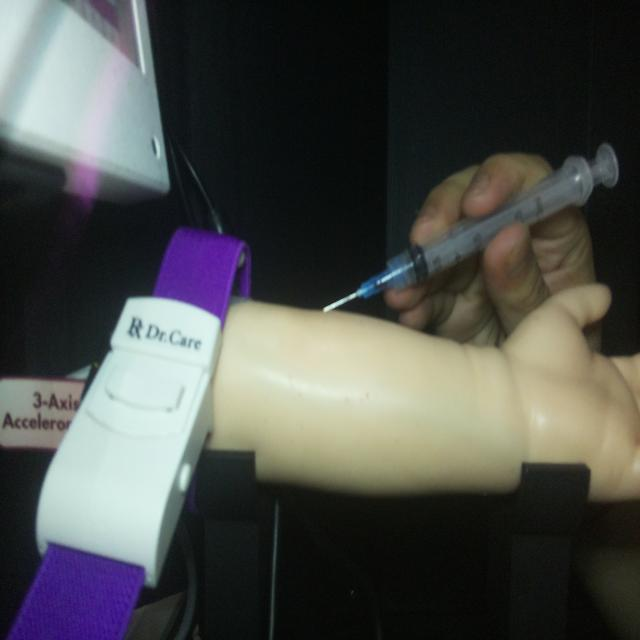18 degrees: (321, 139, 620, 316)
